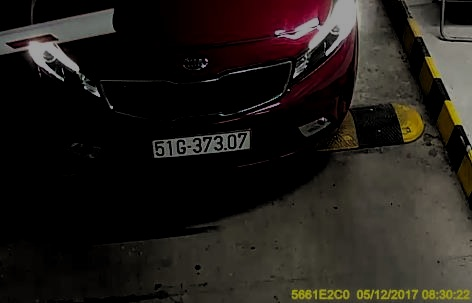plate: (149, 125, 260, 158)
